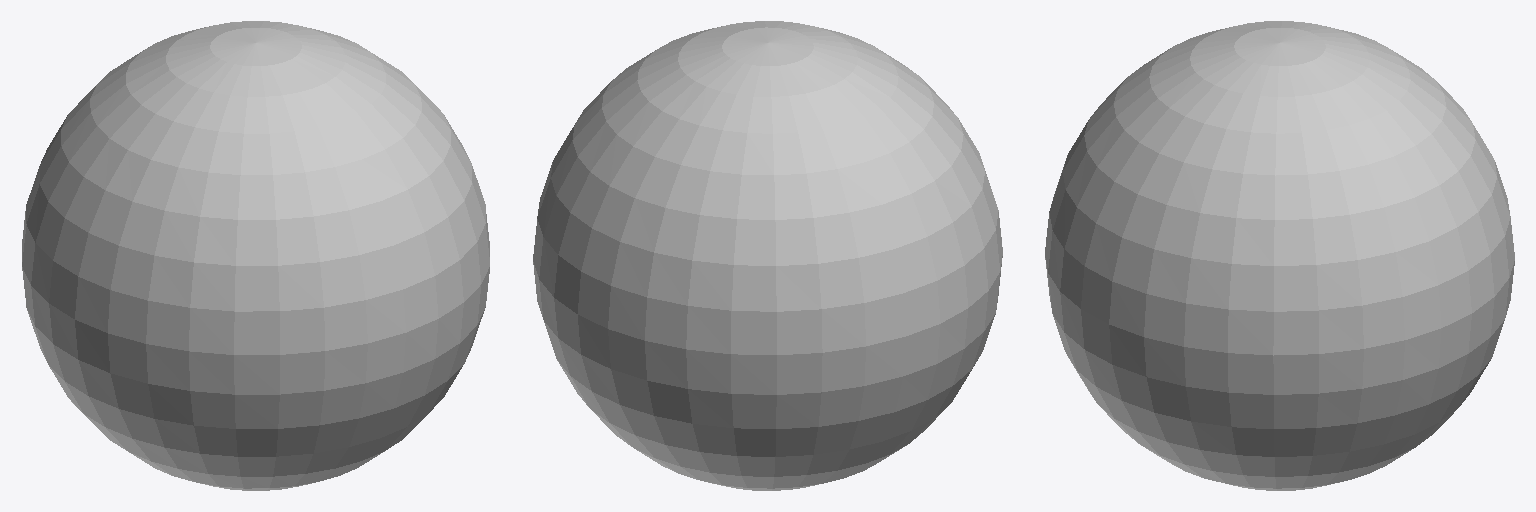
File: Venus.obj
3 views of the same model, side by side, from view 1: azimuth 30°, elevation 25°; view 2: azimuth 150°, elevation 25°; view 3: azimuth 270°, elevation 25° (orthographic).
Parts seen in each view (by area): view 1: 132; view 2: 132; view 3: 132.
Boxes of the visible parts, box(x1,y1,x2,y2) form: 132: box(22, 21, 489, 490); 132: box(533, 21, 1002, 490); 132: box(1045, 21, 1514, 490).
Bounding box in the file's own units: 2.75 × 2.75 × 2.75.